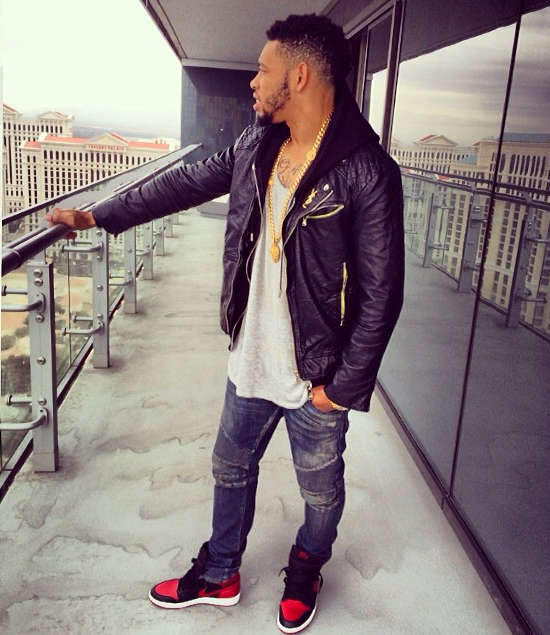Air Jordan 1 Bred: (146, 545, 252, 618), (274, 535, 328, 633)
